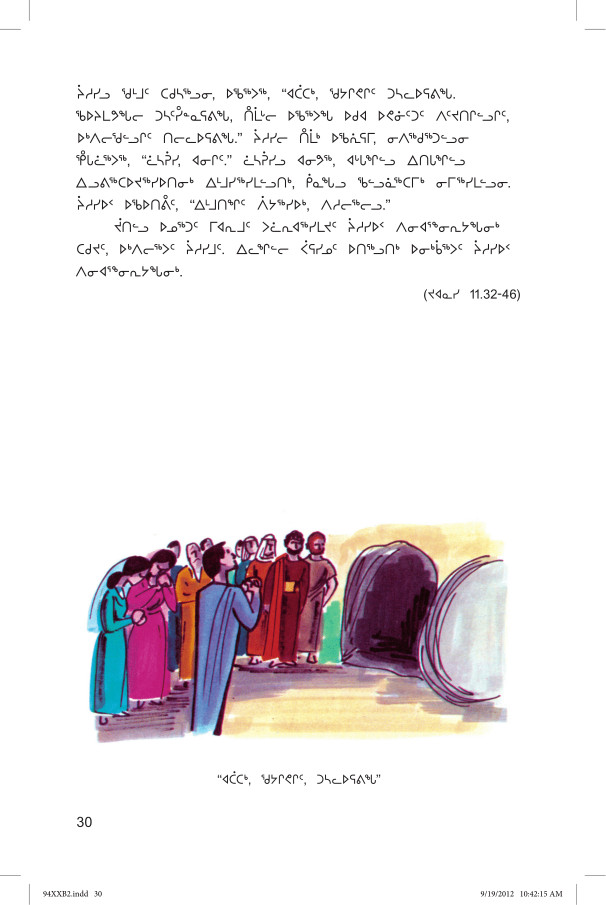inuktitut: (70, 76, 517, 281), (211, 765, 386, 791)
